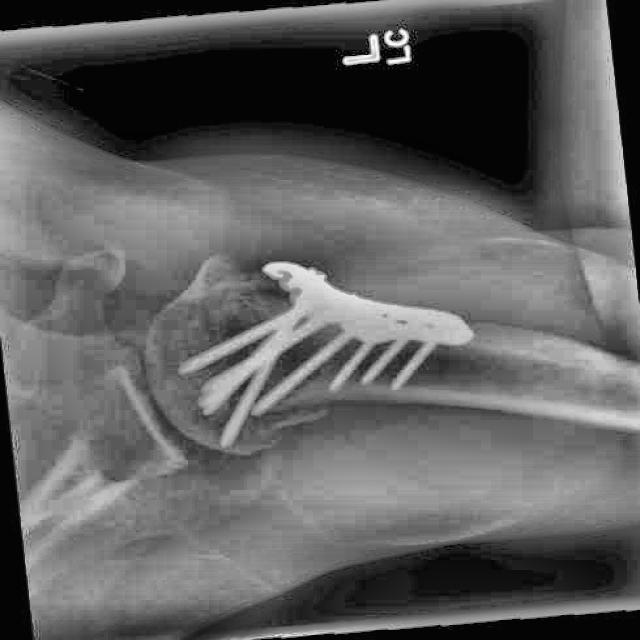shoulder fracture: (227, 358, 369, 465)
